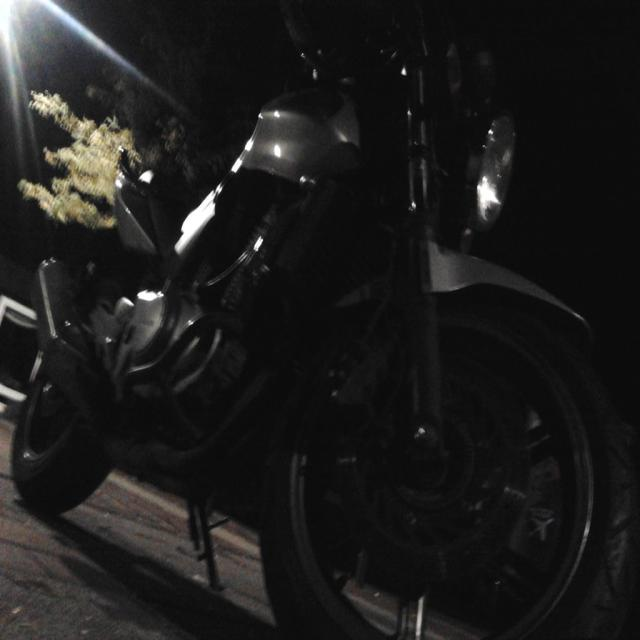Motorbike: (0, 115, 552, 629)
